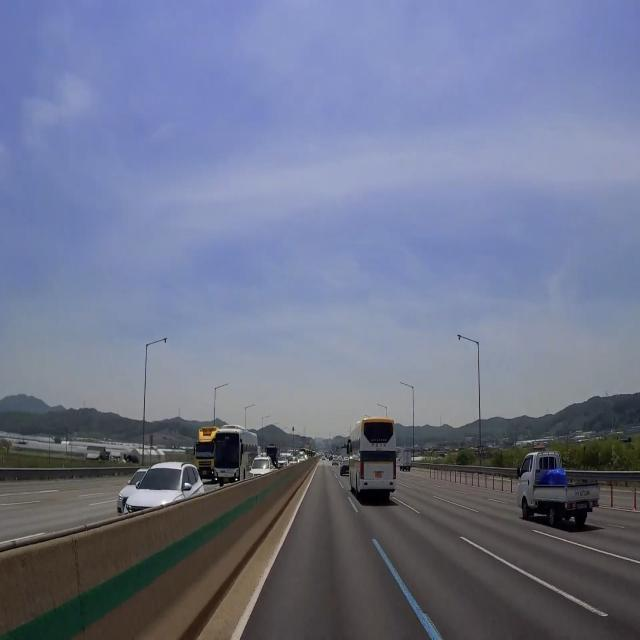car: (575, 499, 590, 512), (373, 470, 386, 483)
